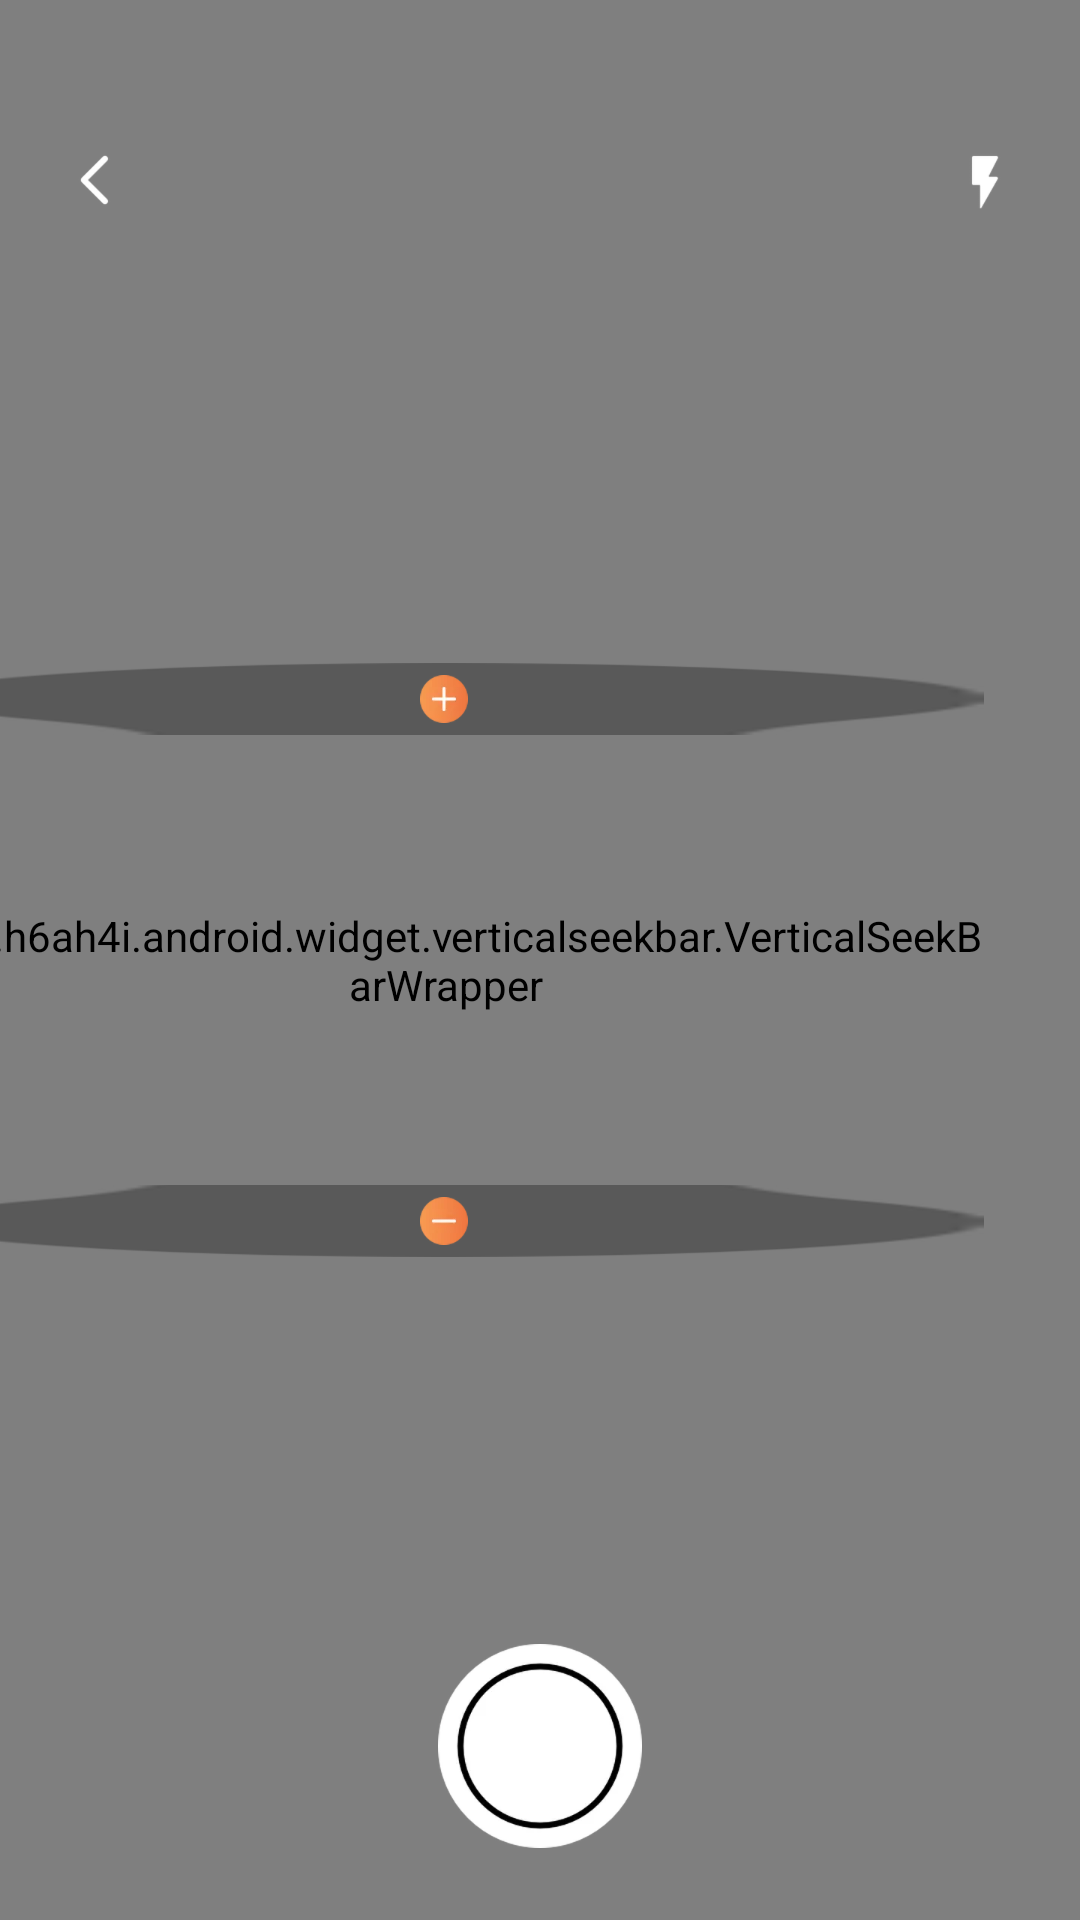

Where to tap for icons on this 1080 x 1920 app screen, as [x,y]:
add: [444,699]
back: [94,180]
lignt: [985,182]
reduce: [444,1221]
